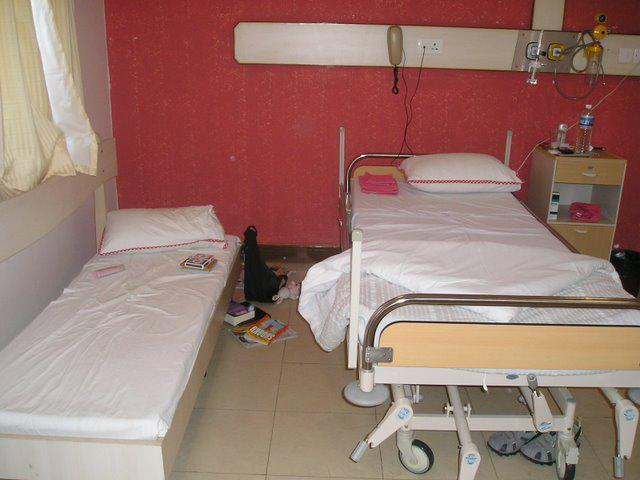Cama: (342, 152, 629, 381), (0, 230, 241, 475)
